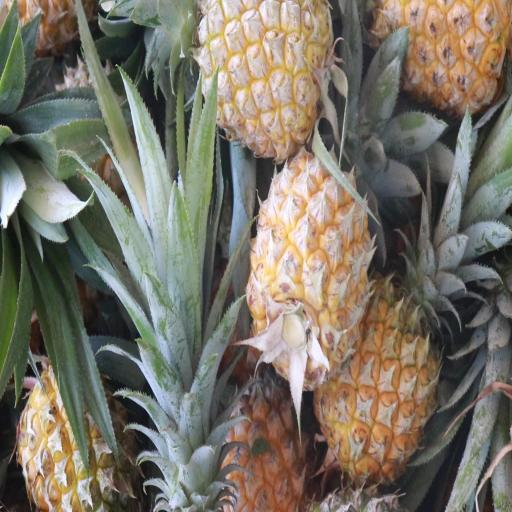------------------------------: (12, 357, 133, 512)
Pineapple - v8 v1: (250, 154, 368, 385), (312, 274, 432, 474), (189, 0, 332, 155), (375, 0, 510, 115), (210, 361, 307, 512)
